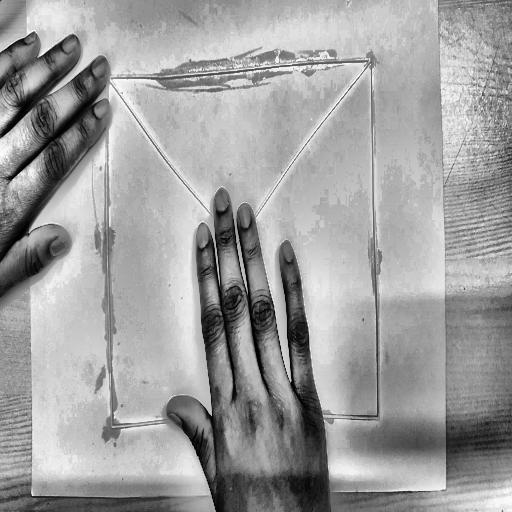bottom_left: (27, 486, 37, 504)
bottom_right: (442, 480, 451, 495)
envelop: (102, 48, 384, 440)
